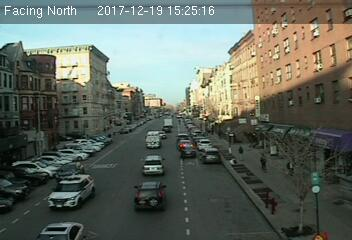car: (134, 181, 166, 209), (54, 162, 84, 181), (142, 154, 164, 174), (202, 148, 220, 164), (181, 145, 197, 157)
pedestrian: (260, 153, 268, 172)
police: (47, 172, 94, 210)
truck: (144, 131, 160, 147)
